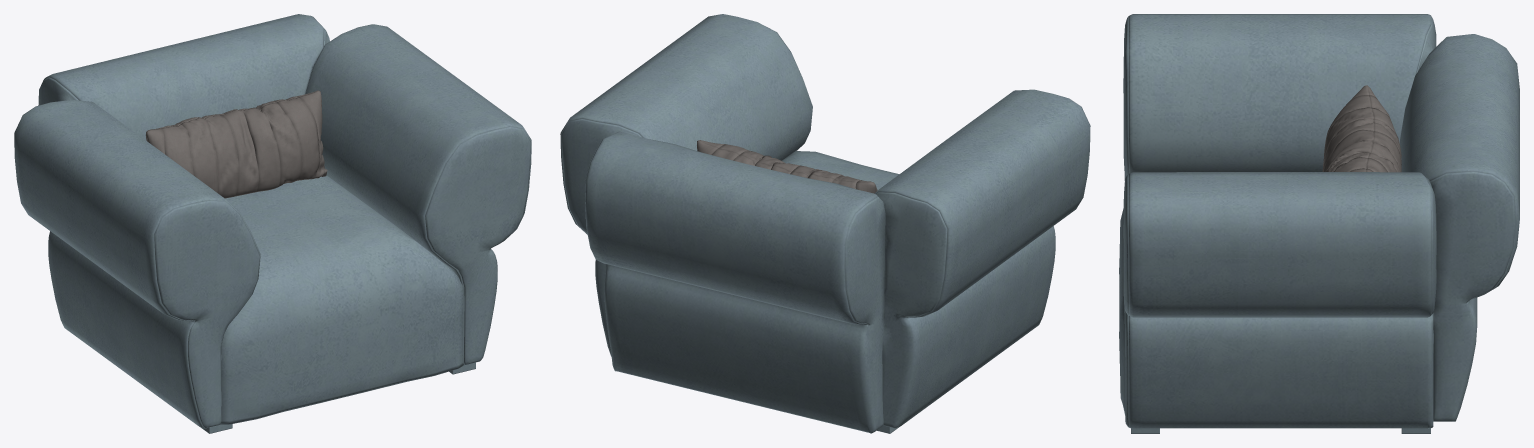
File: mueble4v2.obj
3 views of the same model, side by side, from view 1: azimuth 30°, elevation 25°; view 2: azimuth 150°, elevation 25°; view 3: azimuth 270°, elevation 25° (orthographic). The views are drawn at different scales.
Visible parts, largest first — view 1: OBJ; view 2: OBJ; view 3: OBJ.
Part boxes in pixels (box(x1,y1,x2,y2)): OBJ: box(14, 14, 531, 433); OBJ: box(560, 14, 1090, 433); OBJ: box(1119, 14, 1519, 433).
Bounding box in the file's own units: 1237 × 742 × 1031.
Materials: 2 (2 with a texture image).
